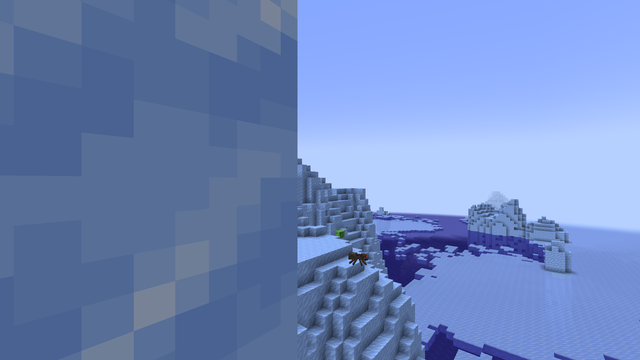araignees: (348, 249, 369, 265)
slimes: (335, 229, 344, 237)
